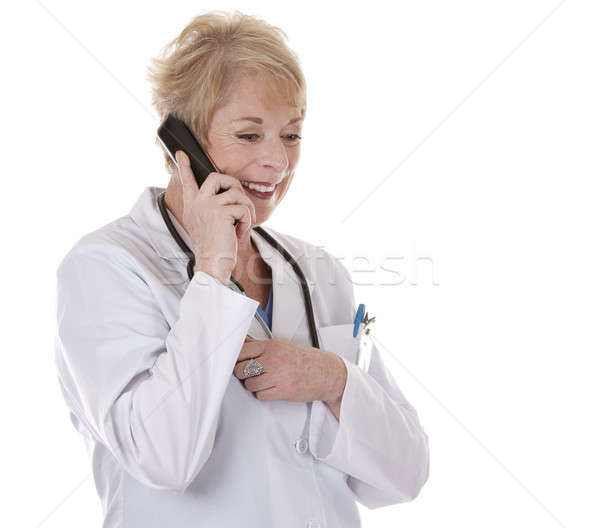phone: (157, 114, 225, 207)
talk: (149, 101, 306, 281)
